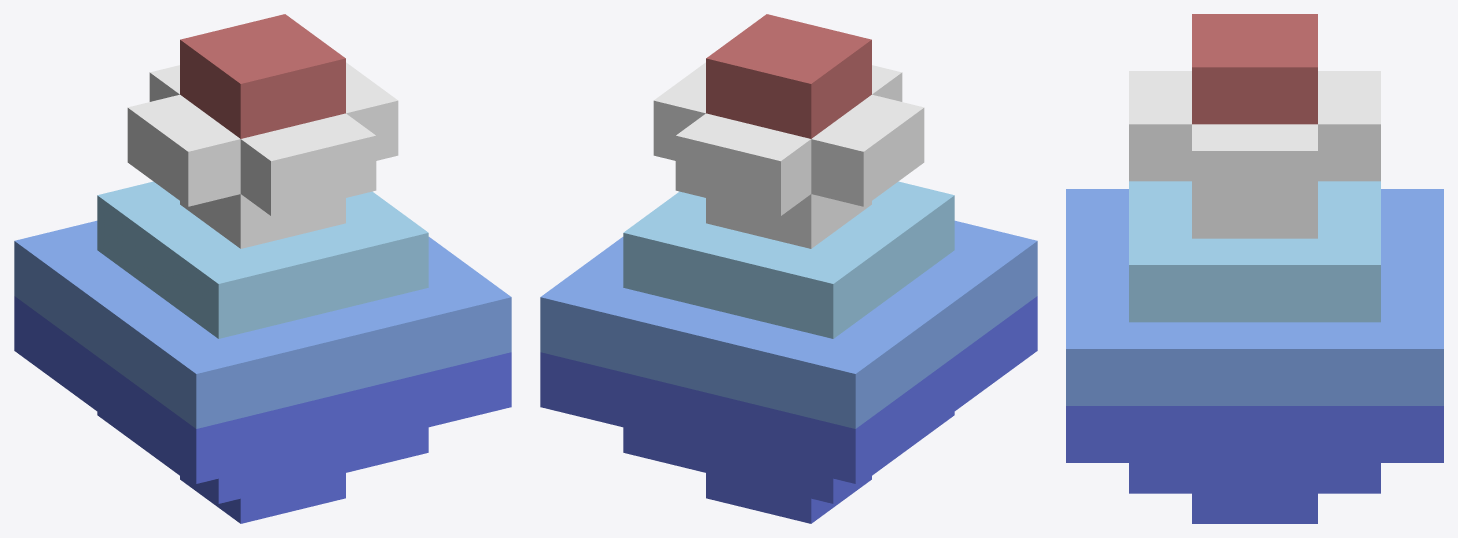
File: mana_potion.obj
3 views of the same model, side by side, from view 1: azimuth 30°, elevation 25°; view 2: azimuth 150°, elevation 25°; view 3: azimuth 270°, elevation 25° (orthographic). The views are drawn at different scales.
Parts seen in each view (by area): view 1: mana_potion; view 2: mana_potion; view 3: mana_potion.
Part boxes in pixels (x1,y1,x2,y2): mana_potion: [14, 14, 511, 523]; mana_potion: [540, 14, 1037, 523]; mana_potion: [1066, 14, 1443, 523].
Size of the model in its own units: 3.99 by 5.31 by 3.99.
